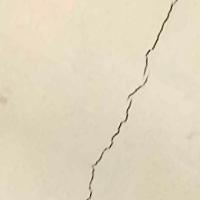crack: (89, 0, 177, 199)
